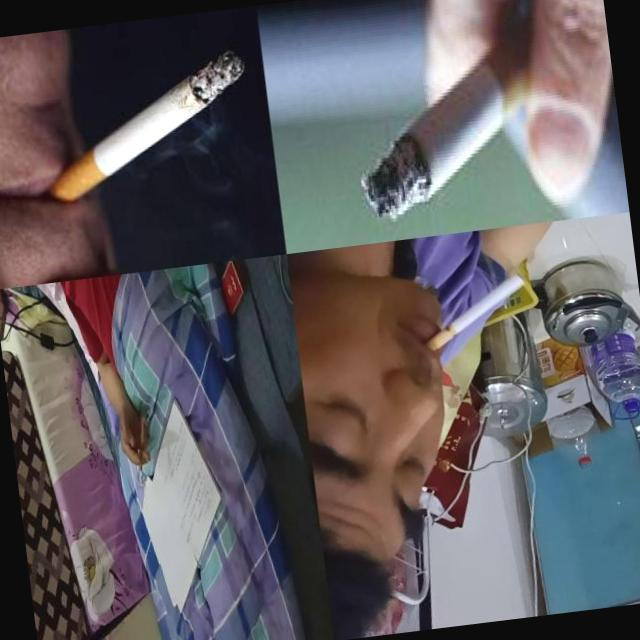cigarette: (339, 0, 596, 226), (34, 48, 258, 204), (416, 272, 530, 352), (136, 449, 144, 484)
